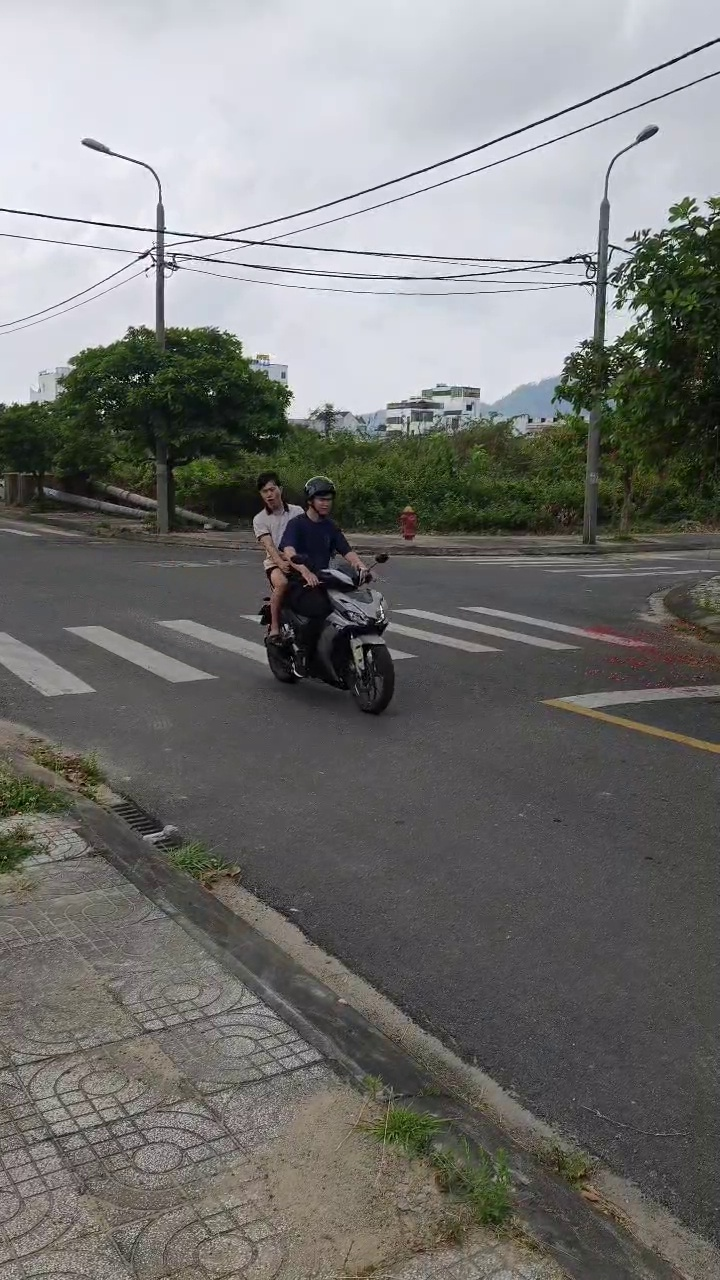helmet: (304, 476, 336, 536)
no_helmet: (258, 469, 284, 523)
